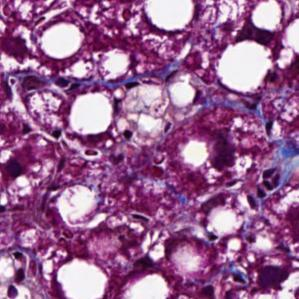inflammation: (240, 160, 287, 210), (94, 125, 139, 170), (0, 249, 38, 299), (221, 253, 253, 287)
